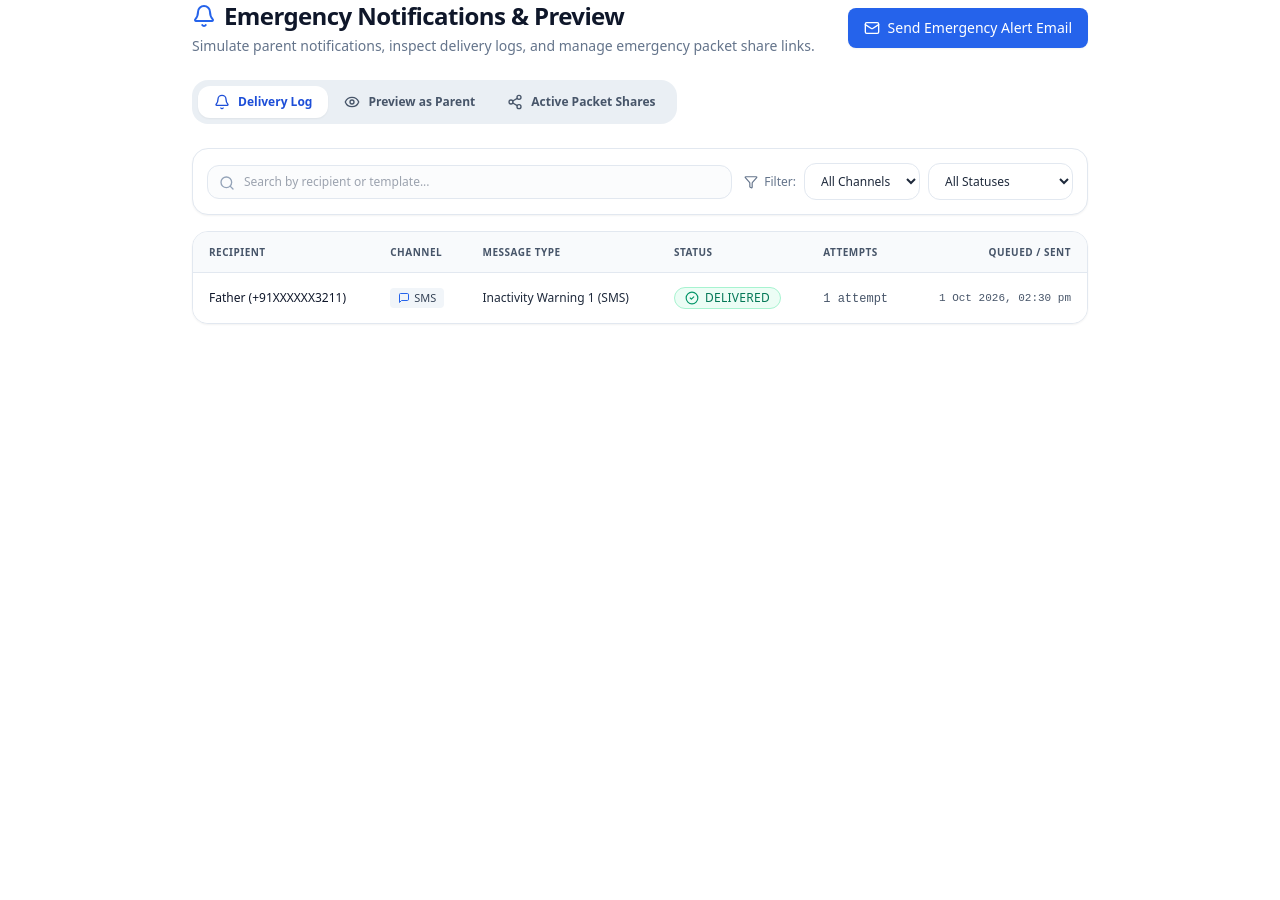
Test: Notifications & Preview Feature (Phase 7) › manages active packet shares with creation and revocation modal
This screenshot has width=1280, height=900.
Note: Switch to Active Packet Shares tab
Click the tab "Active Packet Shares" at (581, 102), box [491,86,672,118]
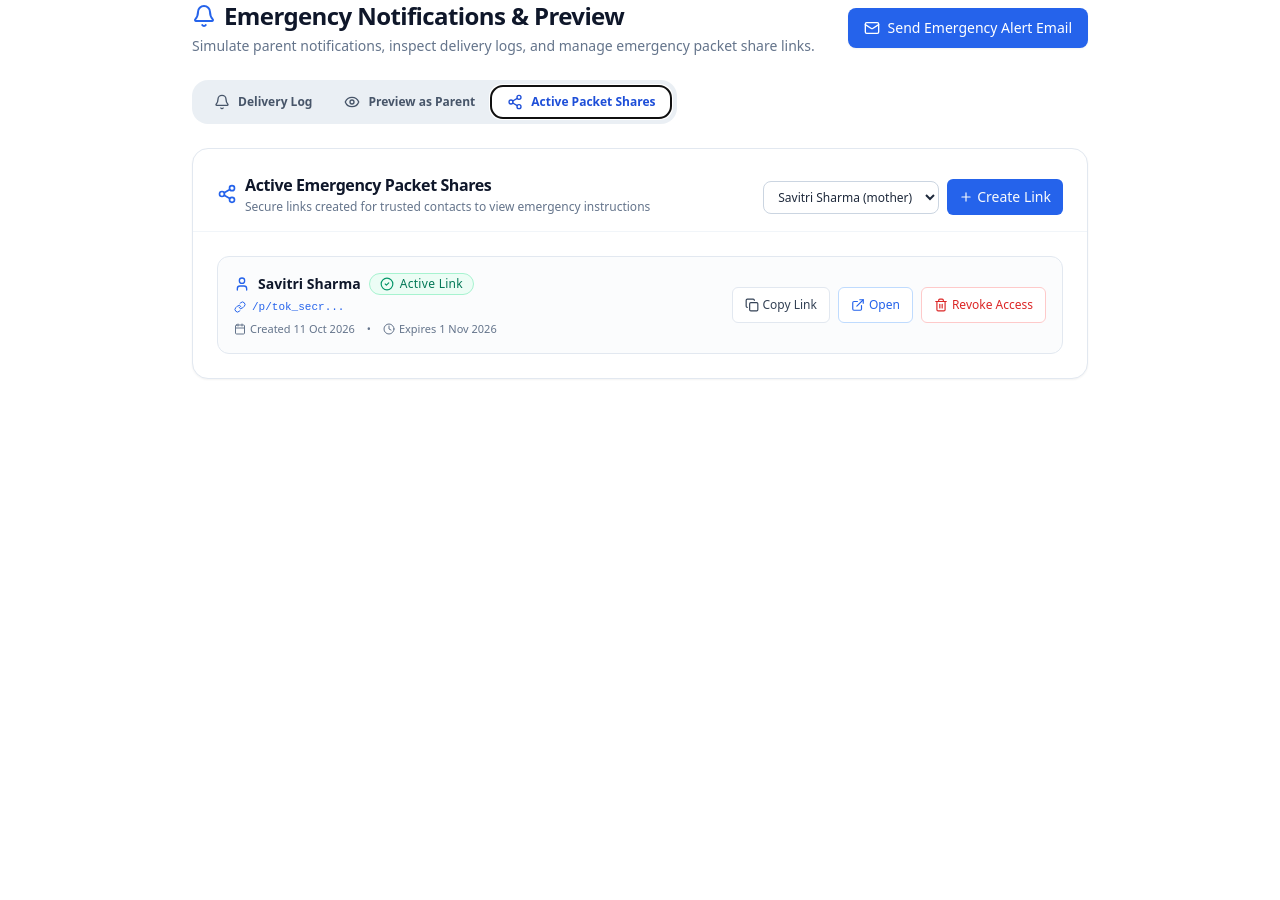
Check: the text "Savitri Sharma" is shown, box [258,274,361,294]
Check: the text "Active Link" is shown, box [400,276,463,292]
Check: the link "/p/tok_secr..." is shown, box [234,301,344,313]
Note: Click Revoke Access
Click the button "Revoke Access" at (983, 305), box [921,287,1046,323]
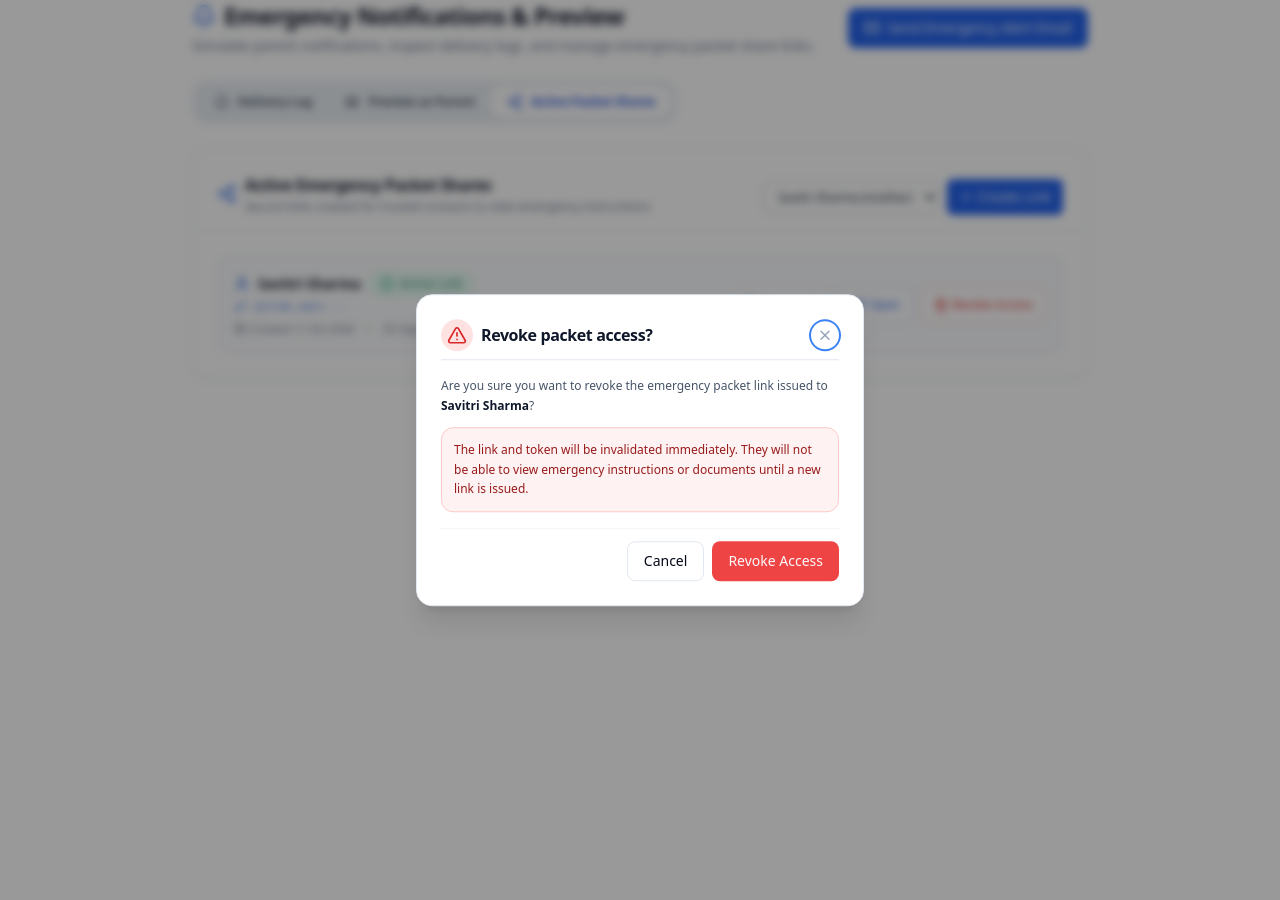
Check: the heading "Revoke packet access?" is shown, box [481,323,652,347]
Check: the text "Are you sure you want to revoke the emergency packet link issued to" is shown, box [441,377,828,394]
Note: Confirm revocation
Click the button "Revoke Access" at (776, 561), box [712,541,839,581]
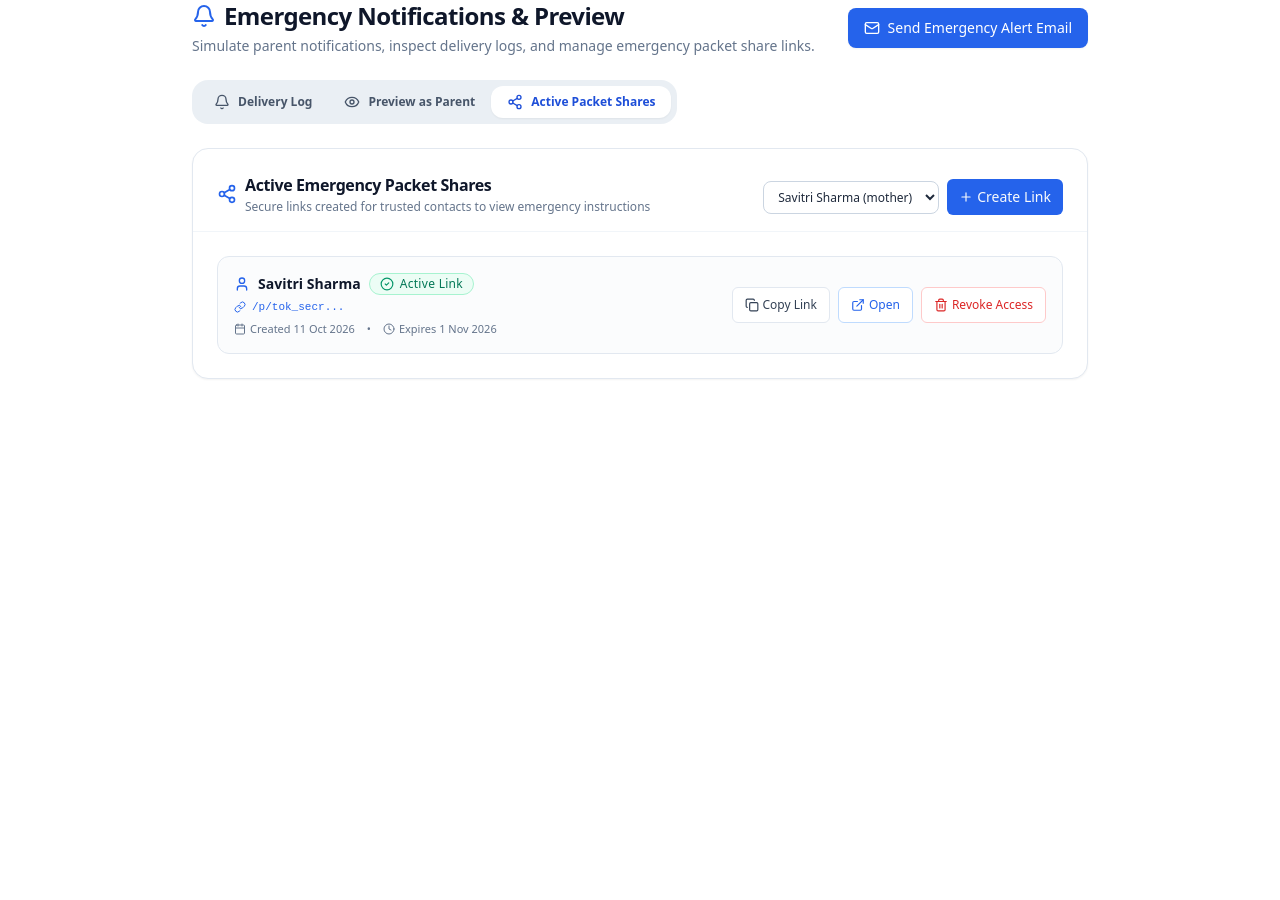
Check: the heading "Revoke packet access?" is gone
